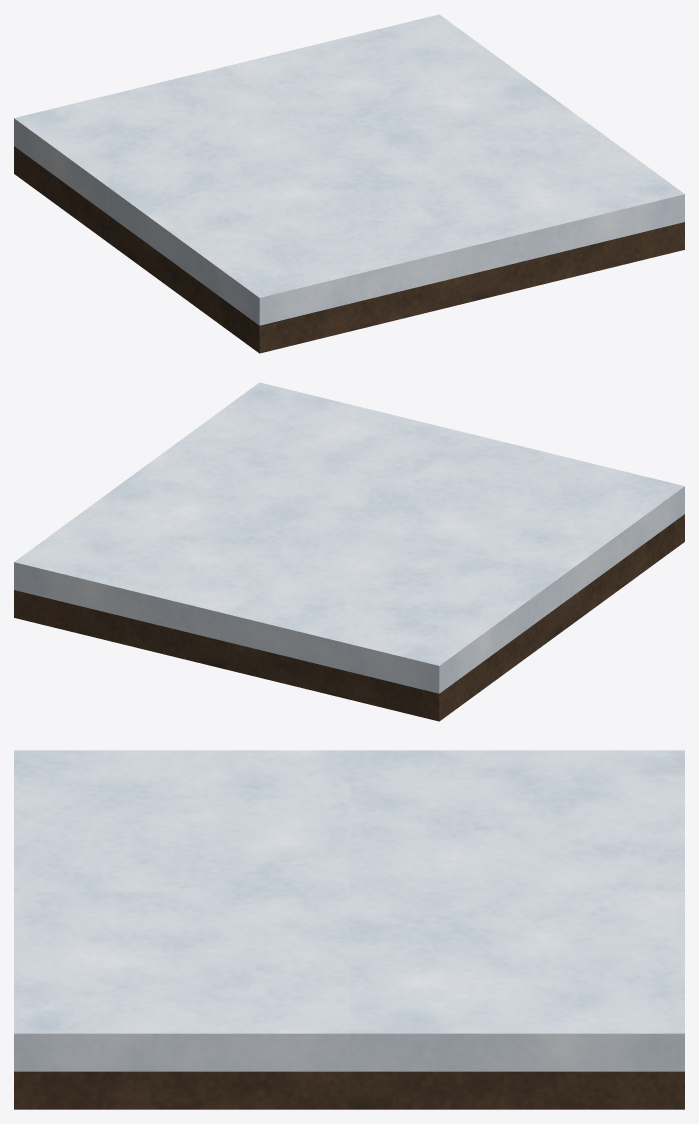
The model's file is ground_snow.glb.
3 renders of one model, top to bottom at view 1: azimuth 30°, elevation 25°; view 2: azimuth 150°, elevation 25°; view 3: azimuth 270°, elevation 25°, orthographic. The views are drawn at different scales.
Visible parts, largest first — view 1: wilds_tiles_ground_snow; view 2: wilds_tiles_ground_snow; view 3: wilds_tiles_ground_snow.
Boxes of the visible parts, x1=… form: wilds_tiles_ground_snow: x1=14, y1=14, x2=684, y2=353; wilds_tiles_ground_snow: x1=14, y1=382, x2=684, y2=721; wilds_tiles_ground_snow: x1=14, y1=750, x2=684, y2=1109.
Bounding box in the file's own units: 1 × 0.125 × 1.
1 material, 1 textured.
